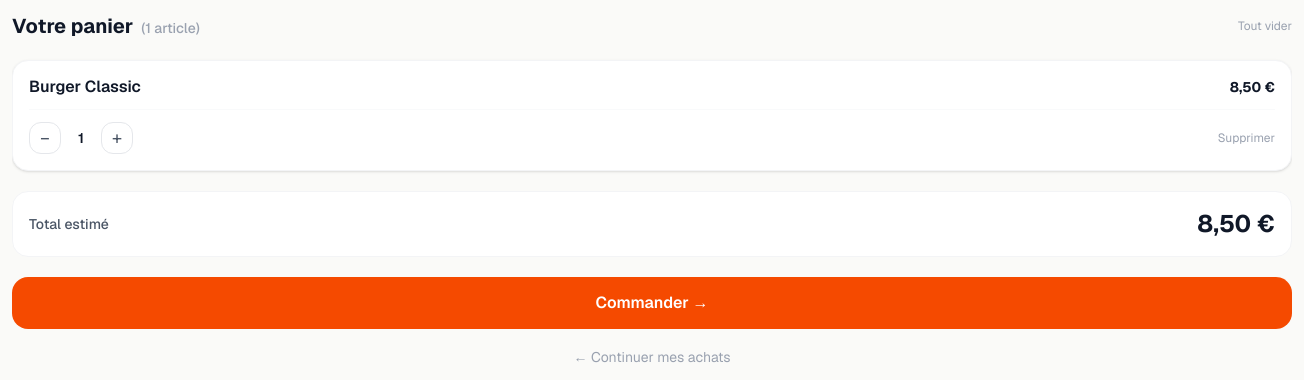
Test: Panier › bouton "Augmenter" → quantité et total incrémentés
Expected: the text "Burger Classic" is shown, [29,77,141,97]
Click the button named "Augmenter". click: [117, 138]
box: [101,122,133,154]
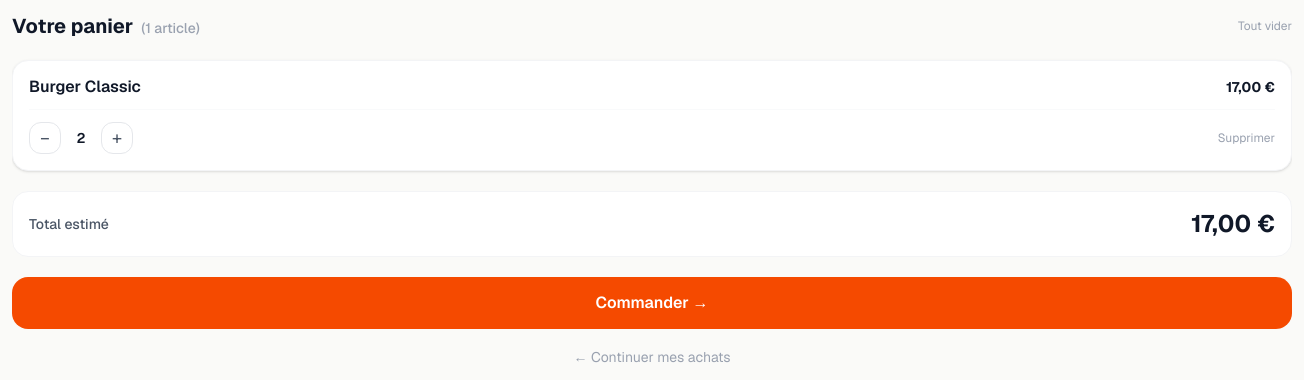
Expected: the text "17,00 €" in the row of "Burger Classic" is shown, [1226,78,1275,96]
